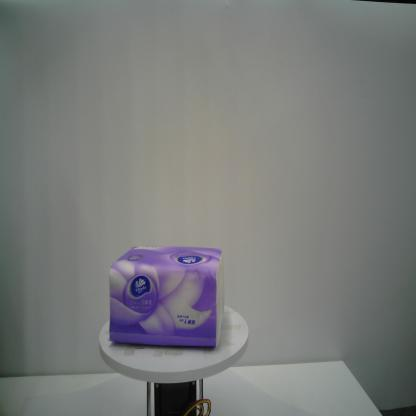Tissue: (104, 240, 229, 350)
